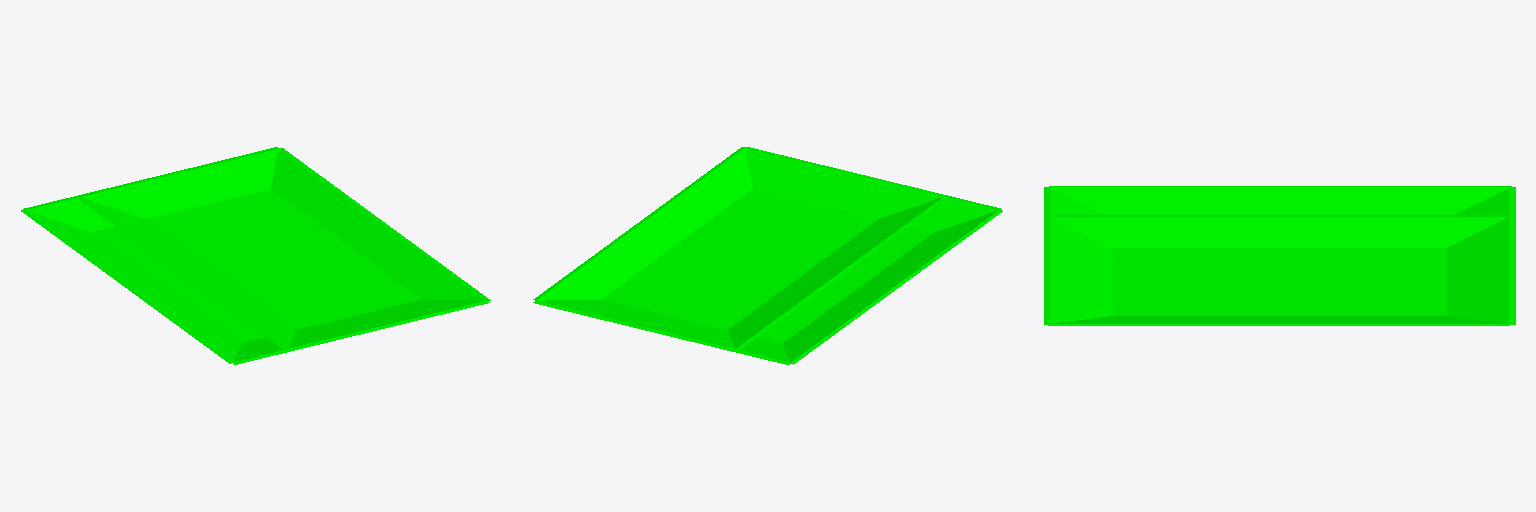
robot.urdf — tray:
<robot name="tray">
  <link name="tray_base_link">
    <contact>
      <lateral_friction value="0.5"/>
      <rolling_friction value="0.0"/>
      <contact_cfm value="0.0"/>
      <contact_erp value="1.0"/>
    </contact>
    <inertial>
      <origin rpy="0 0 0" xyz="0 0 0"/>
      <mass value="0"/>
      <inertia ixx="0" ixy="0" ixz="0" iyy="0" iyz="0" izz="0"/>
    </inertial>
    <visual>
      <origin rpy="0 0 0" xyz="0 0 0"/>
      <geometry>
        <mesh filename="tray_textured_dark.obj" scale="0.55 0.75 0.1"/>
      </geometry>
      <material name="tray_material">
        <color rgba="0 1 0 1"/>
      </material>
    </visual>
    <collision>
      <origin rpy="0 0 0" xyz="0 0 0"/>
      <geometry>
        <mesh filename="tray_textured_dark.obj" scale="0.55 0.75 0.1"/>
      </geometry>
    </collision>
  </link>
</robot>

--- Render facts (derived) ---
Views: 3 orthographic renders of the robot side by side, from view 1: azimuth 30°, elevation 25°; view 2: azimuth 150°, elevation 25°; view 3: azimuth 270°, elevation 25°.
Robot: tray — 1 links, 0 joints (none); root link tray_base_link; default pose: all joints at 0.
Links seen in each view (by area): view 1: tray_base_link; view 2: tray_base_link; view 3: tray_base_link.
Link boxes in pixels (bbox=[...]): tray_base_link: bbox=[21, 147, 490, 364]; tray_base_link: bbox=[533, 147, 1002, 364]; tray_base_link: bbox=[1044, 186, 1515, 325].
Bounding box of the posed robot: 0.6532 × 0.9232 × 0.0277 m (x, y, z).
1 mesh visuals loaded from 1 distinct referenced files (1 OBJ).